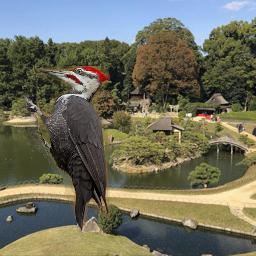Woodpecker: (24, 66, 110, 236)
